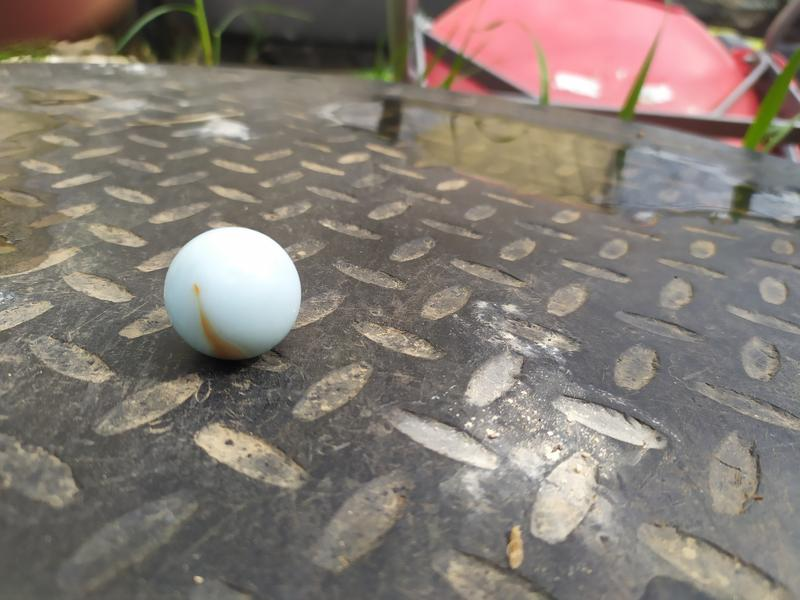Warning: (160, 224, 306, 364)
